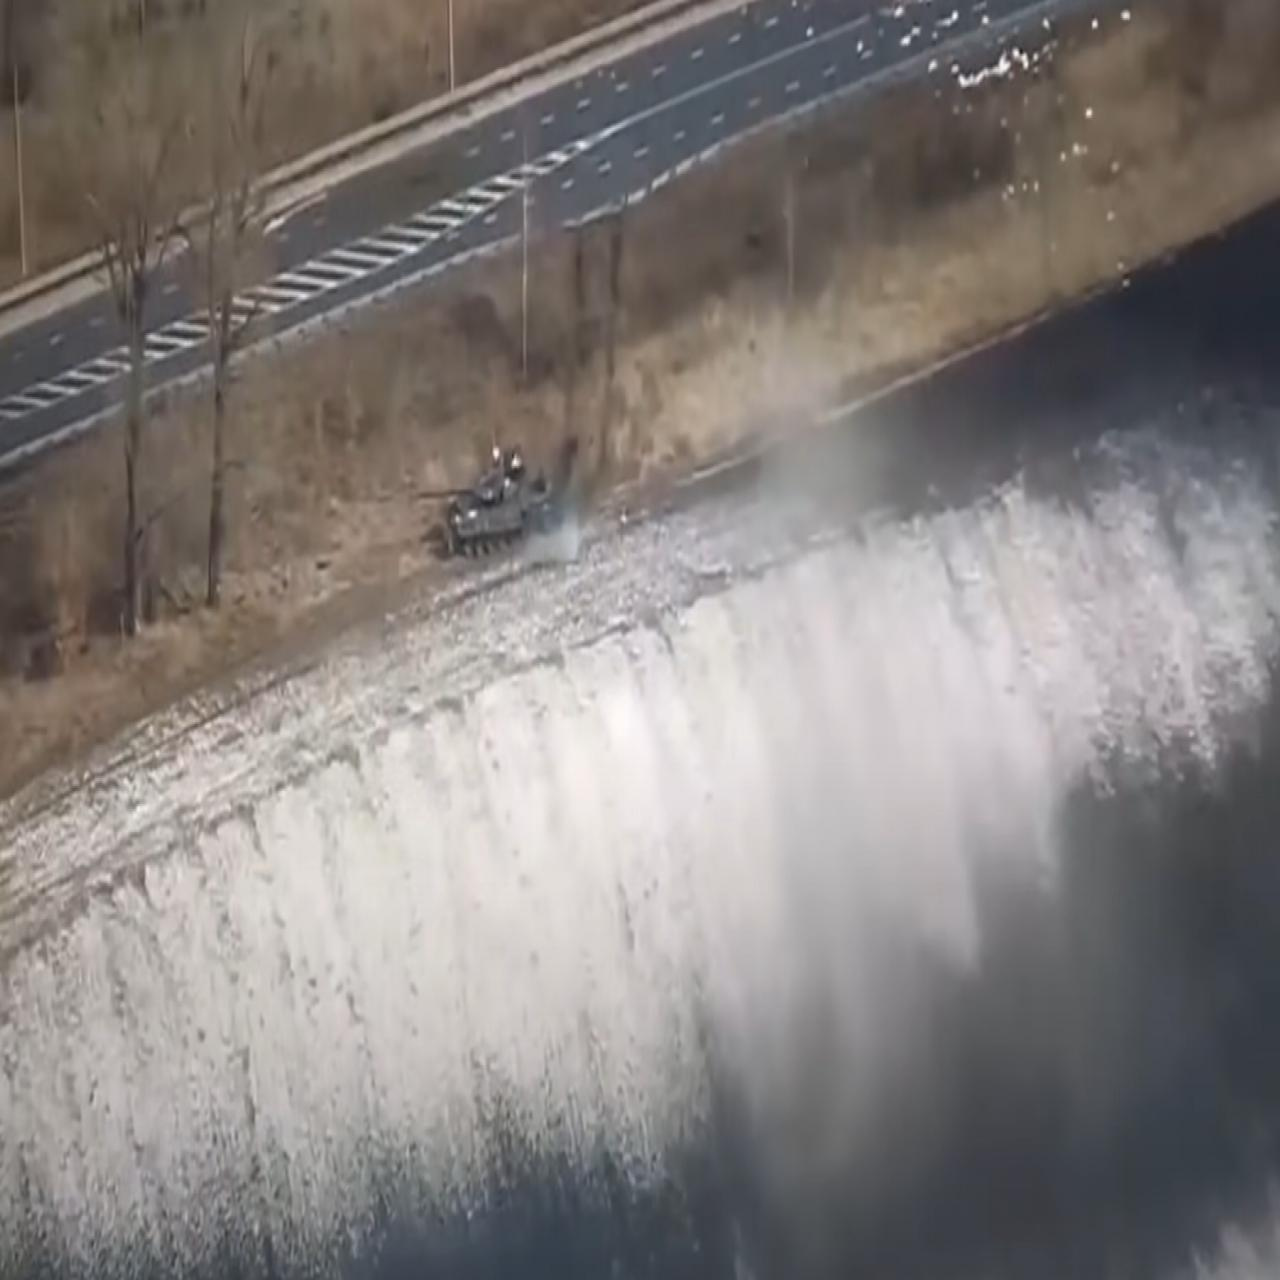MIL_Veh: (423, 448, 556, 556)
